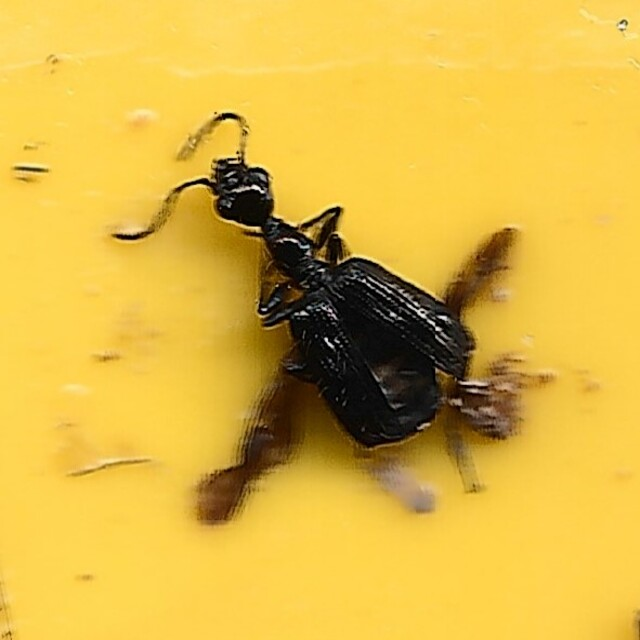Coleoptera: (108, 110, 532, 530)
